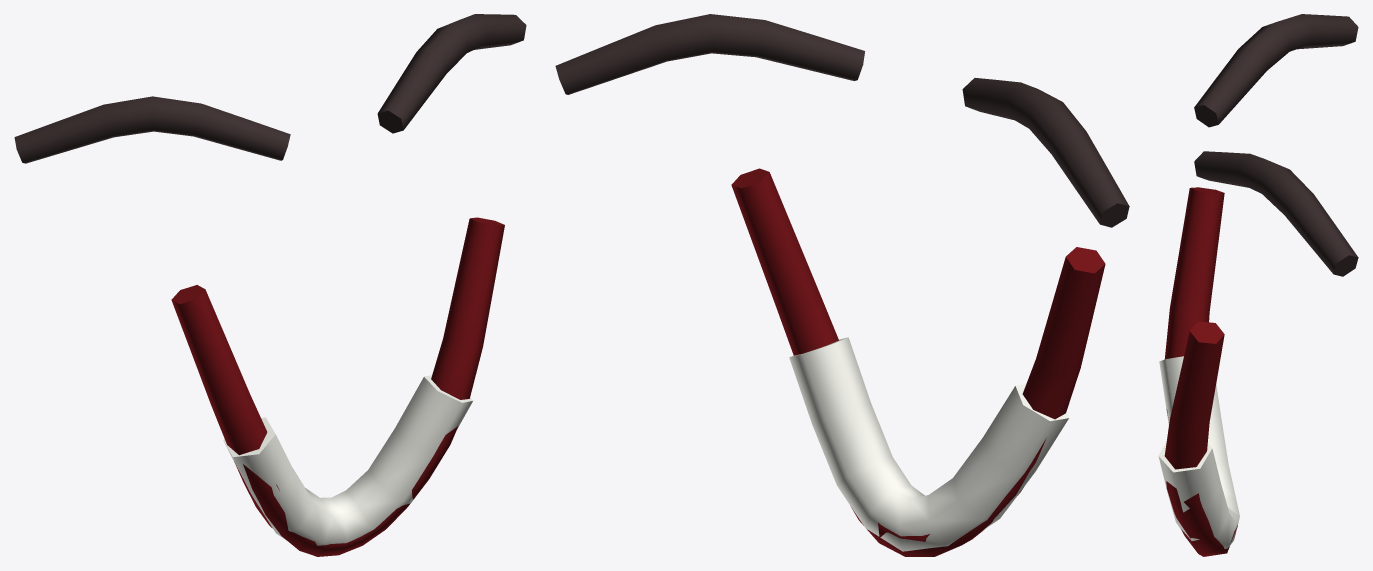
The model's file is gnome_face_4.obj.
3 views of the same model, side by side, from view 1: azimuth 30°, elevation 25°; view 2: azimuth 150°, elevation 25°; view 3: azimuth 270°, elevation 25° (orthographic). The views are drawn at different scales.
Parts seen in each view (by area): view 1: part3, part2, part1, part0; view 2: part2, part3, part0, part1; view 3: part3, part0, part1, part2.
Boxes of the visible parts, left/top/right/bottom form: part3: left=171, top=217, right=504, bottom=556; part2: left=223, top=375, right=473, bottom=545; part1: left=14, top=96, right=290, bottom=163; part0: left=377, top=14, right=526, bottom=133; part2: left=789, top=337, right=1068, bottom=551; part3: left=731, top=168, right=1105, bottom=556; part0: left=555, top=14, right=864, bottom=94; part1: left=962, top=78, right=1129, bottom=227; part3: left=1164, top=187, right=1237, bottom=556; part0: left=1194, top=151, right=1358, bottom=276; part1: left=1194, top=14, right=1358, bottom=127; part2: left=1158, top=356, right=1239, bottom=548.
Bounding box in the file's own units: 0.1365 × 0.1199 × 0.0476.
